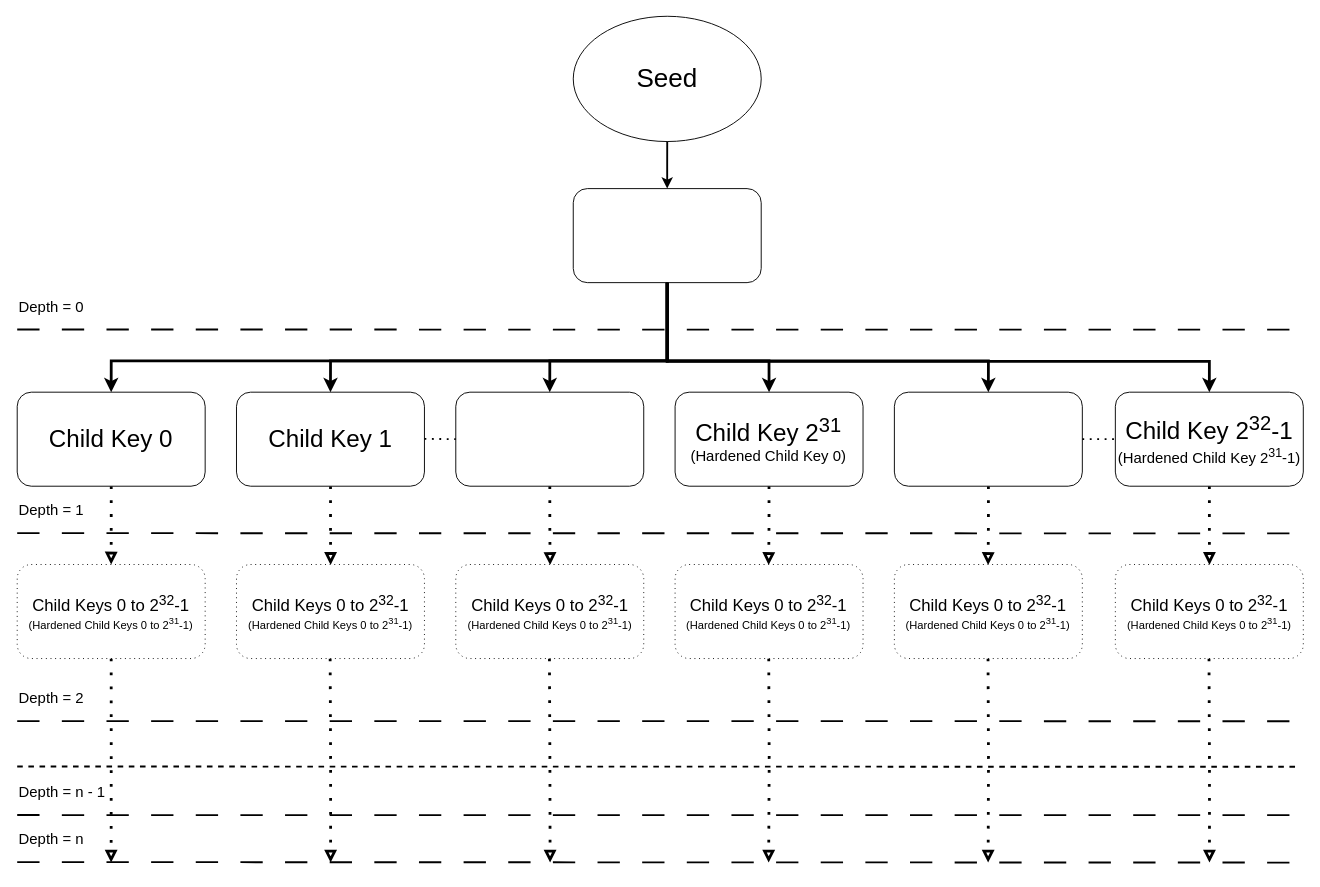
Some shapes in this 1320 by 887 pixel diagram are drawn without their labels. Each missing label, with the centre of its shape:
Child Key 2 31 +1 (Hardened Child Key 1): (x=987, y=438)
Child Key 2 31 -1: (x=549, y=438)
Master Key: (x=666, y=235)
